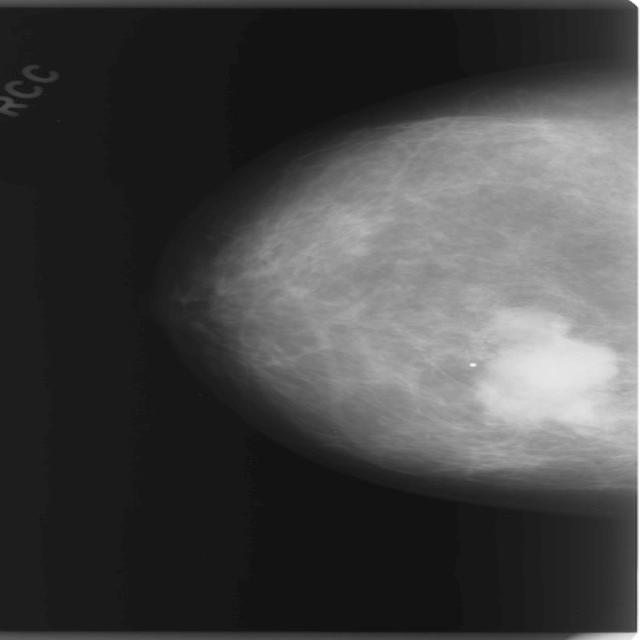tumour: (474, 326, 619, 428)
